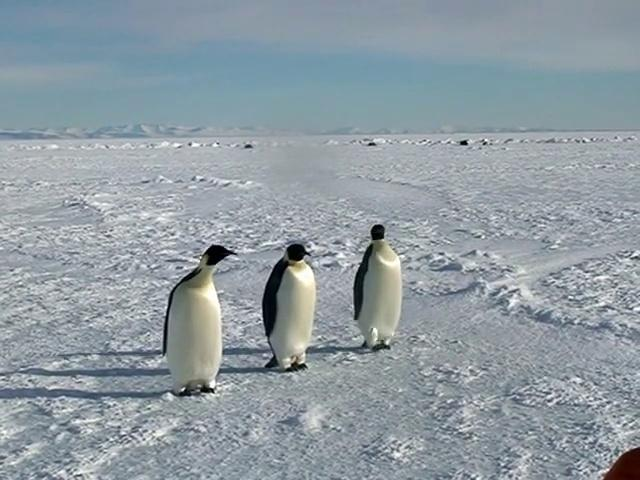animal: (355, 226, 404, 350)
